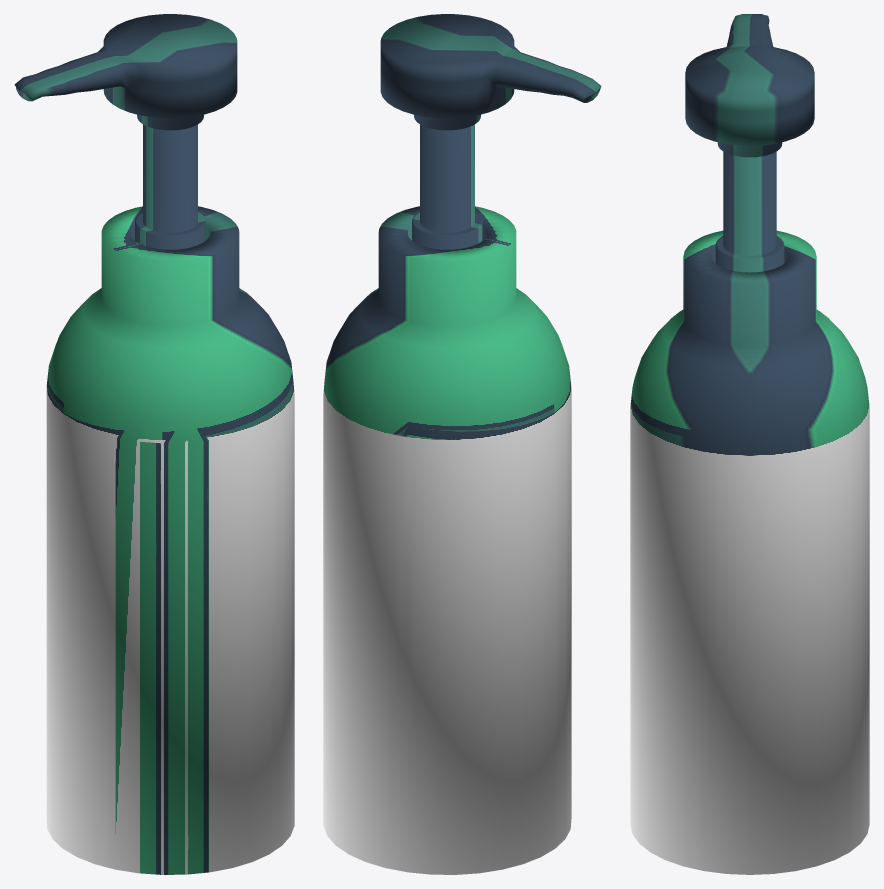
3 views of the same model, side by side, from view 1: azimuth 30°, elevation 25°; view 2: azimuth 150°, elevation 25°; view 3: azimuth 270°, elevation 25° (orthographic). The views are drawn at different scales.
Visible parts, largest first — view 1: 柱体; view 2: 柱体; view 3: 柱体.
Boxes of the visible parts, left/top/right/bottom form: 柱体: left=14, top=14, right=294, bottom=874; 柱体: left=323, top=14, right=601, bottom=874; 柱体: left=630, top=14, right=869, bottom=874.
Size of the model in its own units: 2.39 by 6.93 by 2.
Materials: 1 (1 with a texture image).
